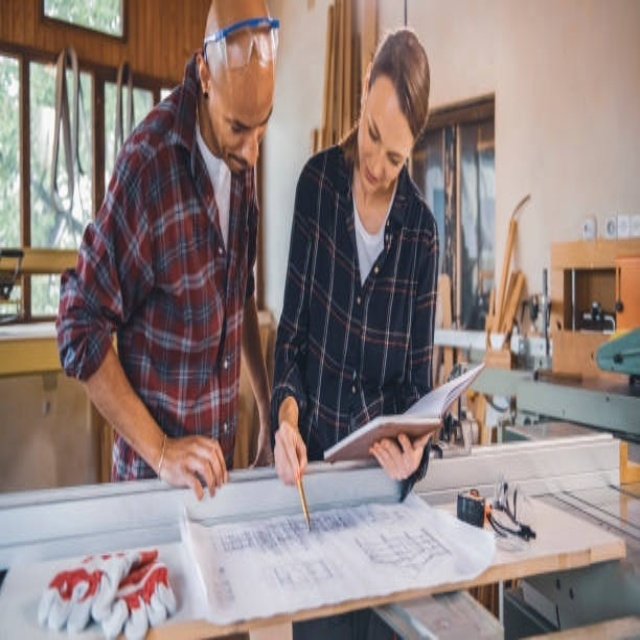Sin_gafas: (363, 103, 408, 169), (214, 97, 270, 135)
Sin_guantes: (160, 432, 228, 499), (368, 427, 428, 485), (273, 416, 309, 489)
Sin_mascara: (225, 145, 261, 179), (362, 163, 386, 199)
